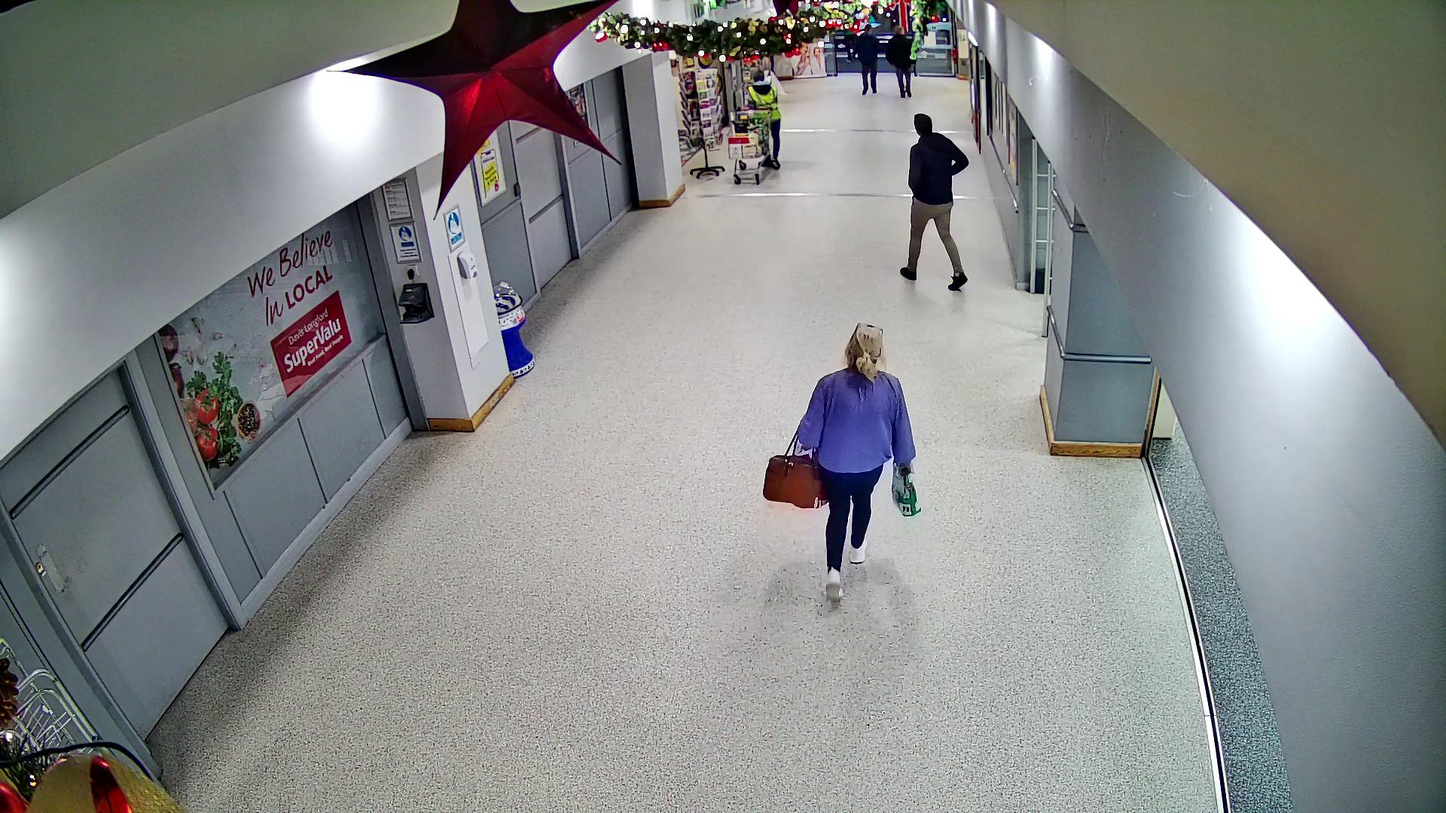backpack-or-handbag: (763, 447, 830, 508)
carrying-item: (892, 460, 922, 518)
person: (797, 321, 915, 598)
person-with-backpack-handbag-and-carrying-item-s-: (763, 321, 923, 600)
